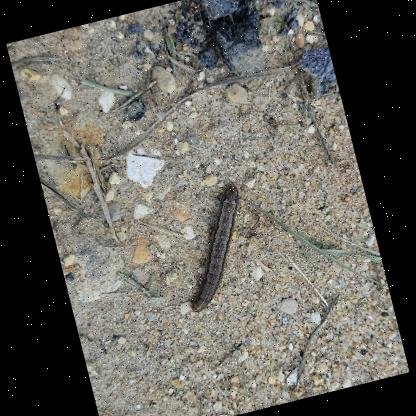Fall Armyworm Larvae: (161, 180, 266, 316)
